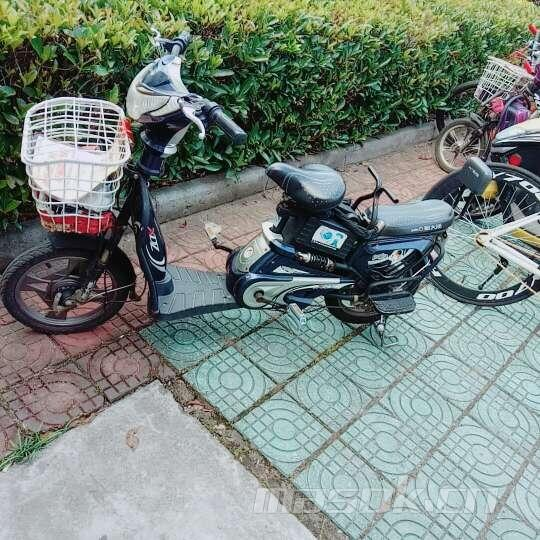电动车: (1, 21, 448, 359)
